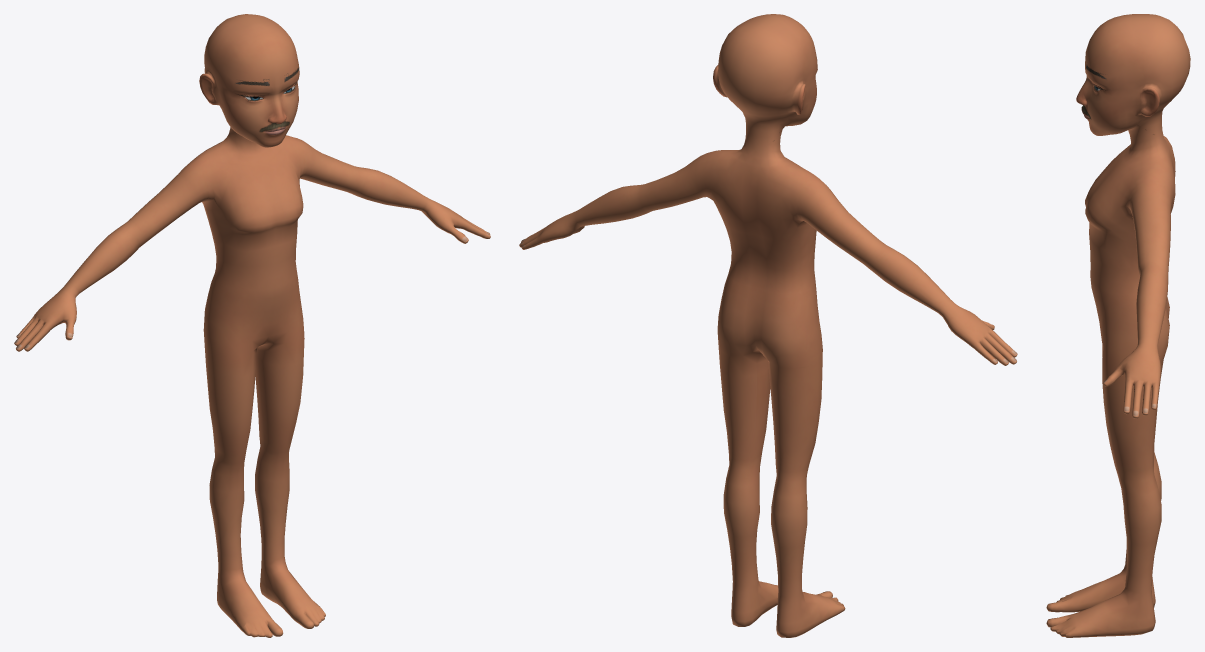
Rendered from frame_0024.glb.
3 renders of one model, left to right at view 1: azimuth 30°, elevation 25°; view 2: azimuth 150°, elevation 25°; view 3: azimuth 270°, elevation 25°, orthographic. The views are drawn at different scales.
Parts seen in each view (by area): view 1: frame_0024_head_geo; view 2: frame_0024_head_geo; view 3: frame_0024_head_geo.
Boxes of the visible parts, bbox=[...] form: frame_0024_head_geo: bbox=[14, 14, 490, 637]; frame_0024_head_geo: bbox=[519, 14, 1017, 637]; frame_0024_head_geo: bbox=[1046, 14, 1190, 637].
Bounding box in the file's own units: 1.28 × 1.5 × 0.3253.
3 materials, 3 textured.
